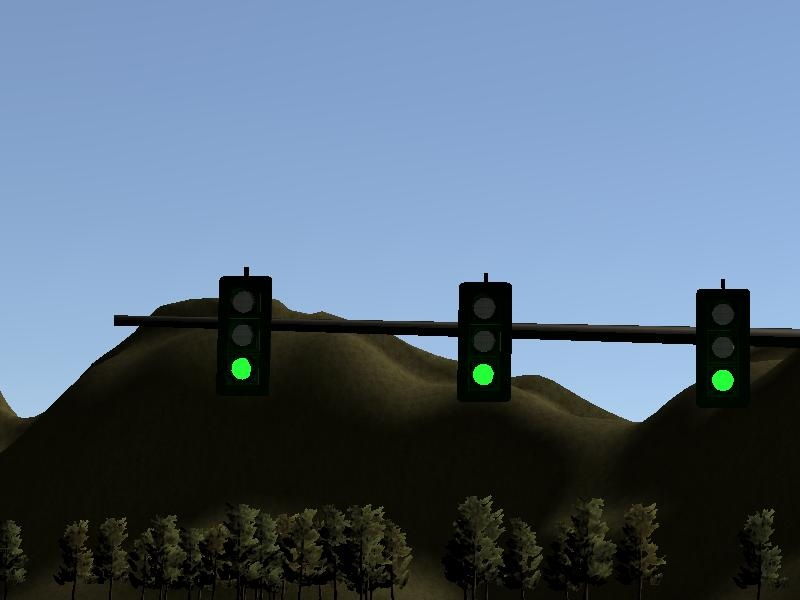GREEN: (452, 278, 517, 408), (212, 272, 278, 398), (690, 286, 756, 407)
